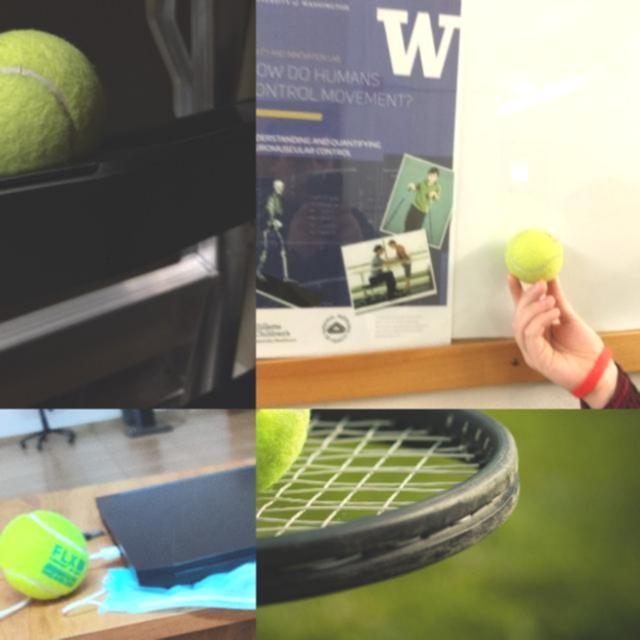tennis-ball: (0, 29, 112, 157), (0, 510, 88, 601), (503, 227, 563, 284)
